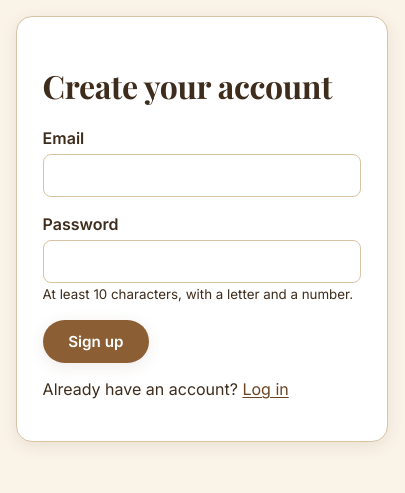
Test: Signup page › announces server validation errors and stays on the page
Type "new@example.com" into the field labelled "Email" at [202, 176], box [43, 154, 361, 197]
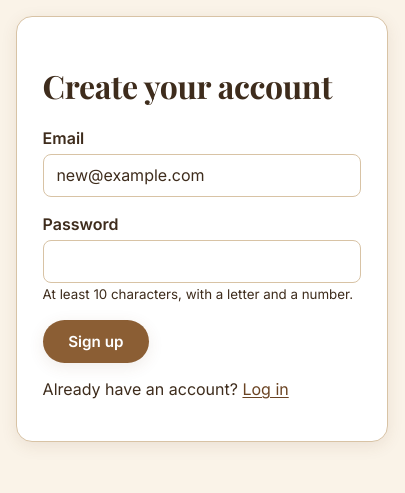
Type "short" into the password field labelled "Password" at [202, 261], box [43, 240, 361, 283]
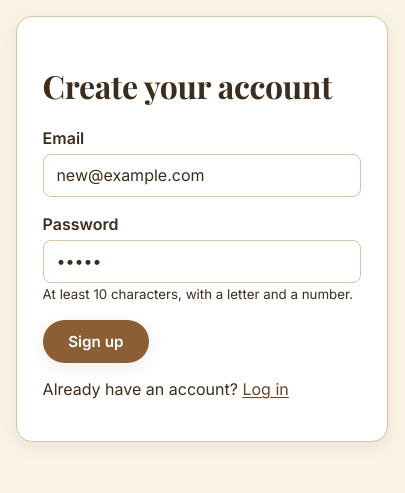
Click the button "Sign up" at [96, 342], box [43, 320, 149, 363]
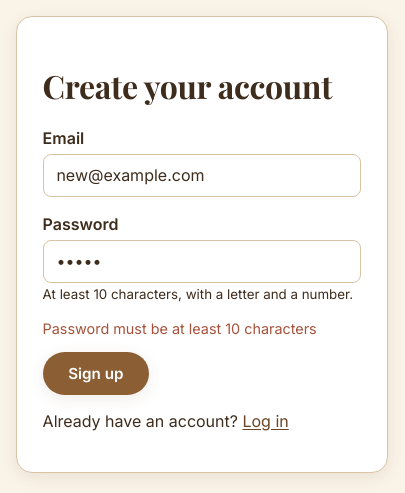
Expected: the button "Sign up" is enabled, [43, 352, 149, 395]
Now the message reads "Password must be at least 10 characters", box [43, 320, 317, 337]
